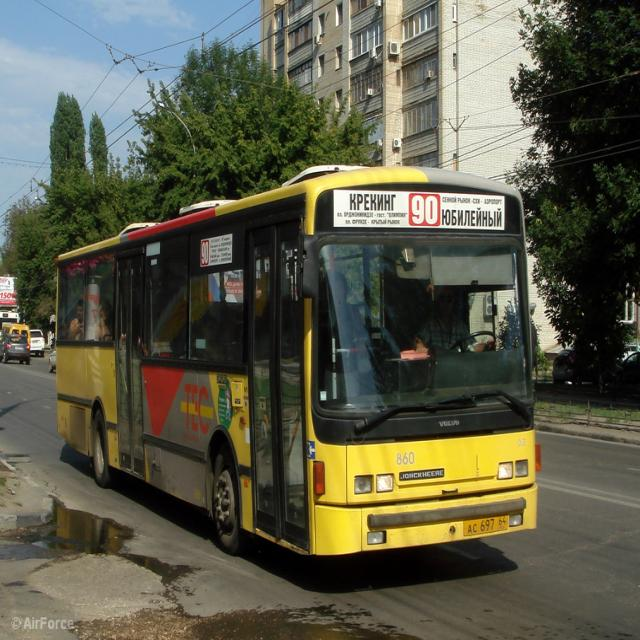number-of-bus: (411, 195, 440, 227), (202, 241, 211, 267)
